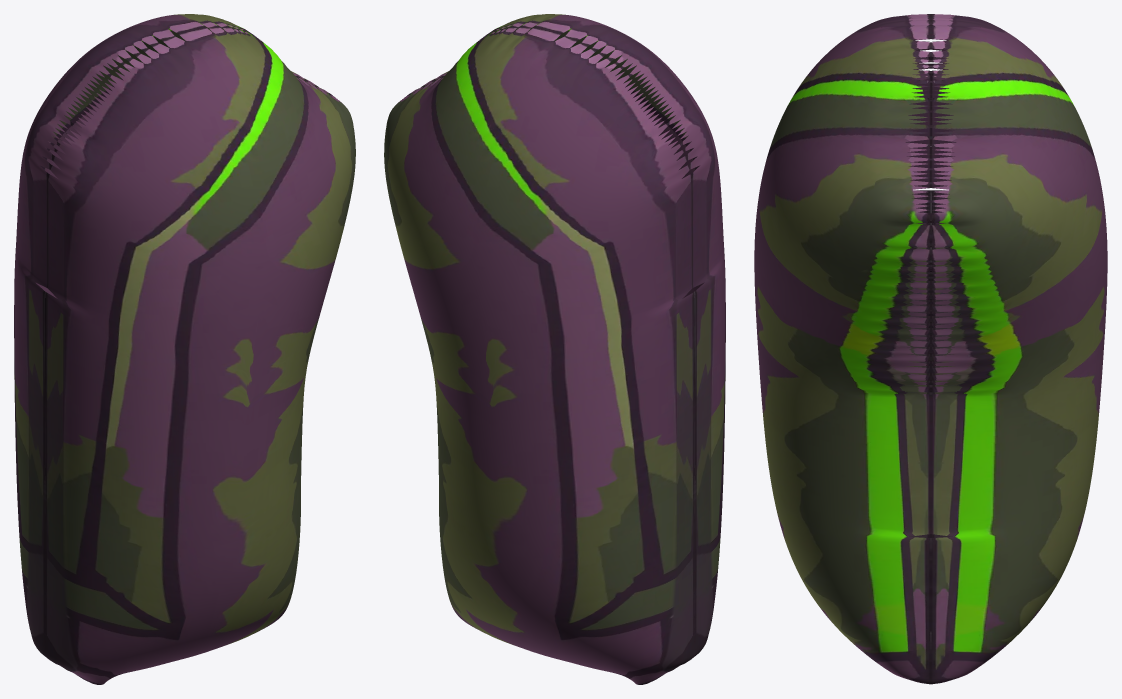
File: side_wall_end.glb
3 views of the same model, side by side, from view 1: azimuth 30°, elevation 25°; view 2: azimuth 150°, elevation 25°; view 3: azimuth 270°, elevation 25° (orthographic). The views are drawn at different scales.
Parts seen in each view (by area): view 1: side_wall_end; view 2: side_wall_end; view 3: side_wall_end.
Boxes of the visible parts, x1,y1,x2,y2 form: side_wall_end: [14, 14, 355, 684]; side_wall_end: [384, 14, 725, 684]; side_wall_end: [754, 14, 1107, 684].
Bounding box in the file's own units: 0.9783 × 1.94 × 0.9927.
Materials: 1 (1 with a texture image).
